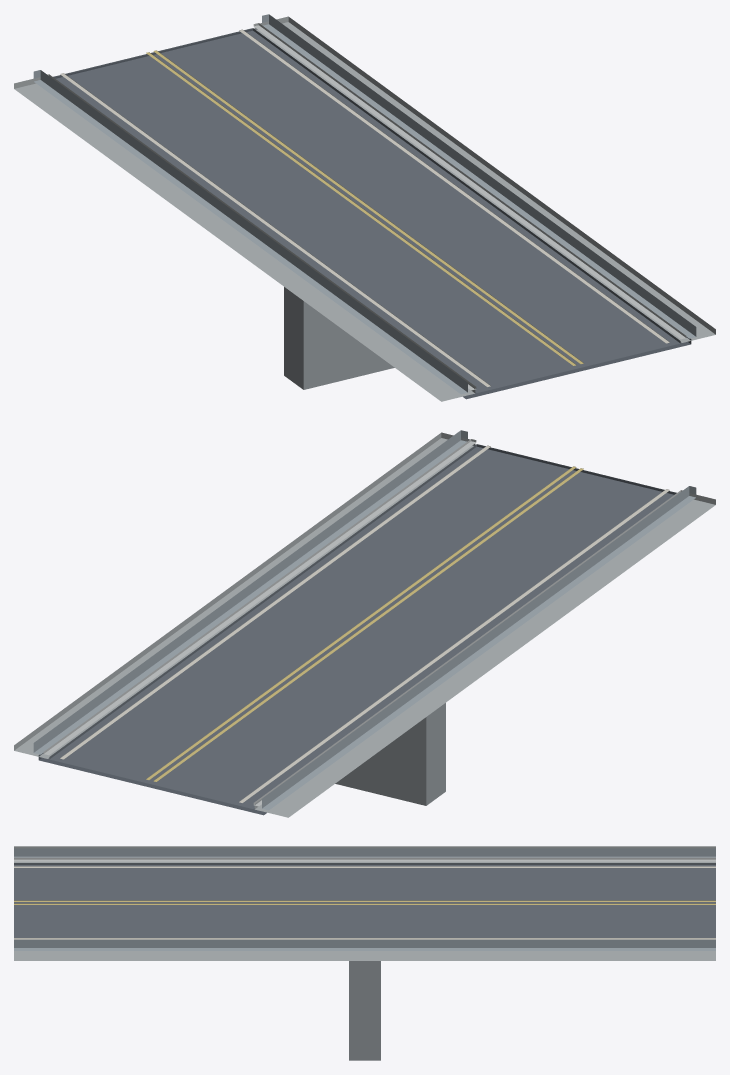
The model's file is bridge_street.glb.
3 views of the same model, one above another, from view 1: azimuth 30°, elevation 25°; view 2: azimuth 150°, elevation 25°; view 3: azimuth 270°, elevation 25° (orthographic). The views are drawn at different scales.
Visible parts, largest first — view 1: bridge_street_asphalt, bridge_street_pavement, bridge_street_steel, bridge_street_concrete, bridge_street_curb, bridge_street_white, bridge_street_yellow, bridge_street_asphalt_dark; view 2: bridge_street_asphalt, bridge_street_pavement, bridge_street_steel, bridge_street_concrete, bridge_street_curb, bridge_street_white, bridge_street_yellow, bridge_street_asphalt_dark; view 3: bridge_street_asphalt, bridge_street_steel, bridge_street_pavement, bridge_street_curb, bridge_street_concrete, bridge_street_white, bridge_street_yellow.
Boxes of the visible parts, x1,y1,x2,y2 form: bridge_street_asphalt: (53,28,680,392); bridge_street_pavement: (14,16,715,401); bridge_street_steel: (33,14,696,394); bridge_street_concrete: (284,287,394,389); bridge_street_curb: (47,23,686,390); bridge_street_white: (60,29,669,386); bridge_street_yellow: (146,50,583,365); bridge_street_asphalt_dark: (54,28,691,399); bridge_street_asphalt: (49,444,676,808); bridge_street_pavement: (14,432,715,817); bridge_street_steel: (33,430,696,810); bridge_street_concrete: (335,703,445,805); bridge_street_curb: (43,439,682,806); bridge_street_white: (60,445,669,802); bridge_street_yellow: (146,466,583,781); bridge_street_asphalt_dark: (38,444,675,815); bridge_street_asphalt: (14,863,715,939); bridge_street_steel: (14,848,715,950); bridge_street_pavement: (14,846,715,960); bridge_street_curb: (14,857,715,861); bridge_street_concrete: (349,961,380,1060); bridge_street_white: (14,866,715,939); bridge_street_yellow: (14,900,715,904).
Size of the model in its own units: 8.9 by 5.15 by 24.
